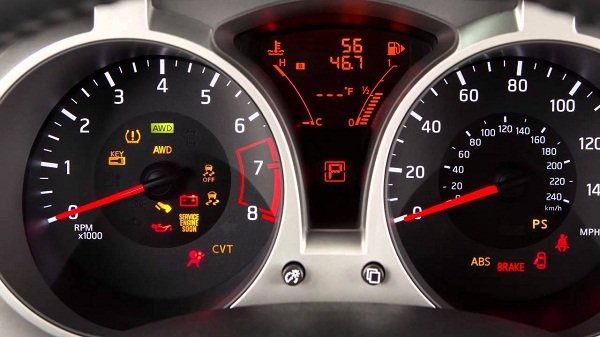ABS: (469, 255, 493, 270)
